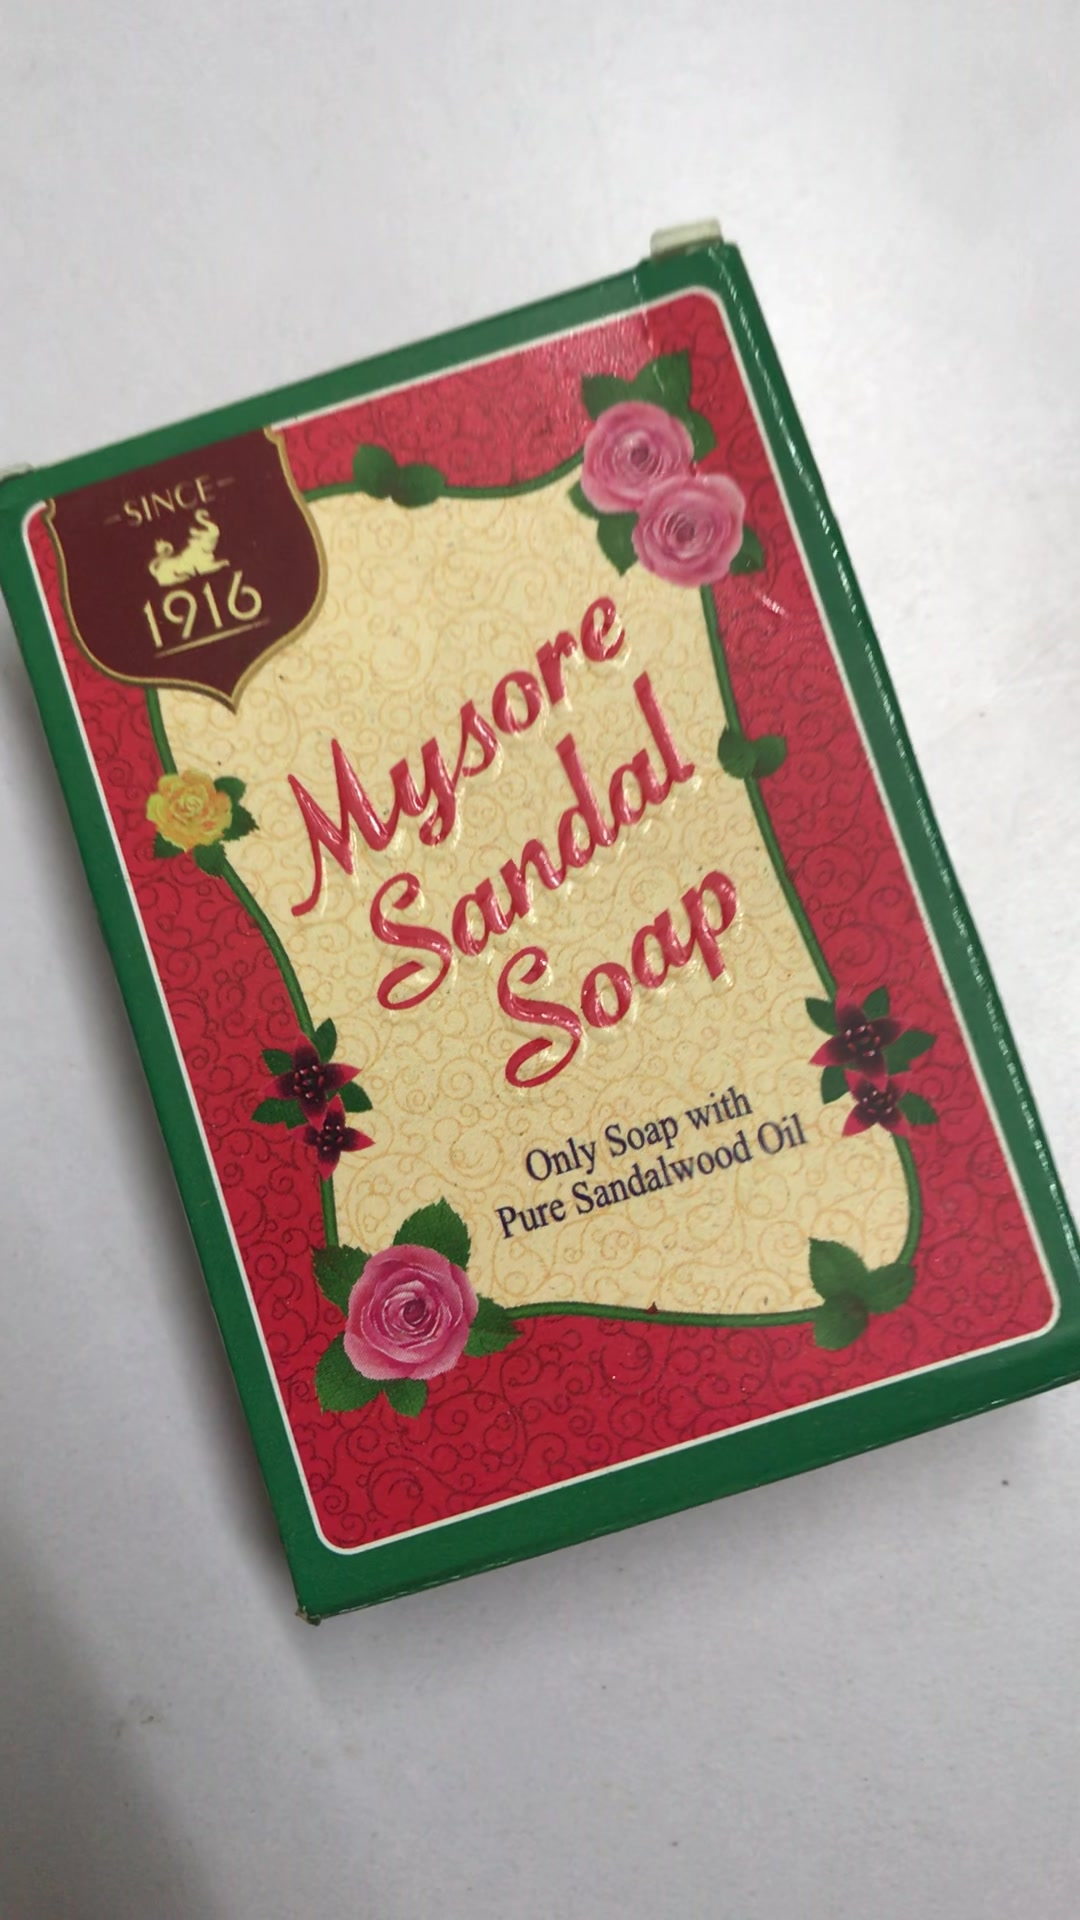mysore sandal soap: (5, 240, 1080, 1611)
